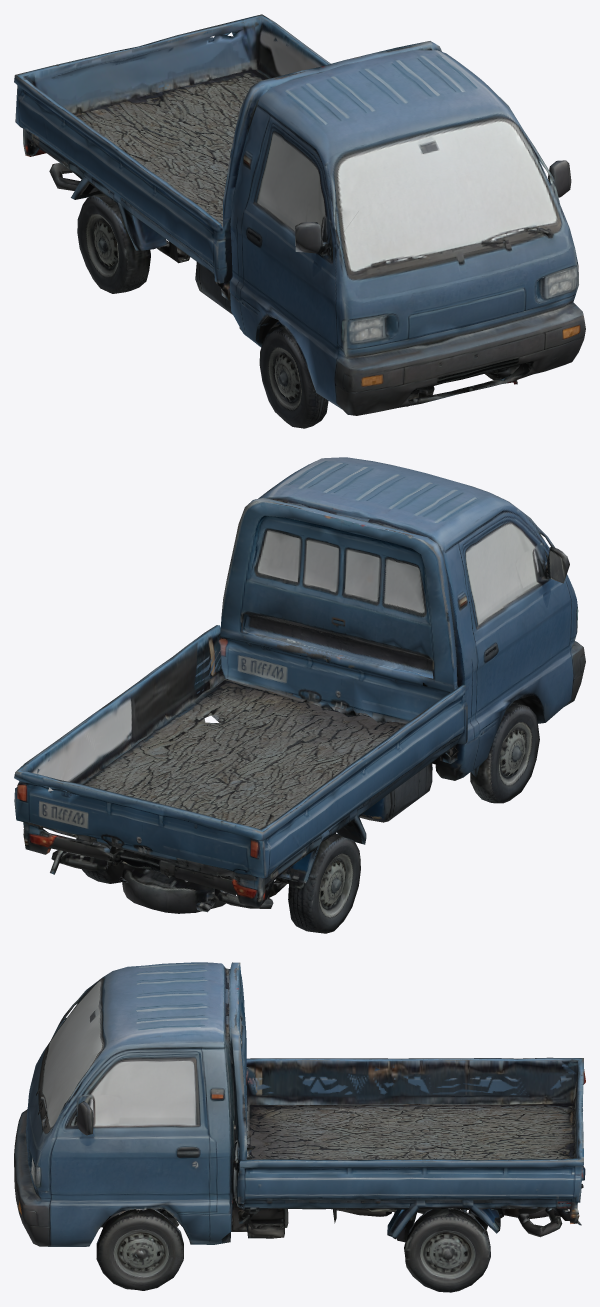
Rendered from truck_1t.glb.
The picture shows the model from 3 angles, top to bottom: view 1: azimuth 30°, elevation 25°; view 2: azimuth 150°, elevation 25°; view 3: azimuth 270°, elevation 25°; orthographic projection. The views are drawn at different scales.
Parts seen in each view (by area): view 1: texture_mapping; view 2: texture_mapping; view 3: texture_mapping.
Boxes of the visible parts, bbox=[...] form: texture_mapping: bbox=[14, 14, 585, 428]; texture_mapping: bbox=[14, 457, 585, 933]; texture_mapping: bbox=[14, 962, 585, 1292].
Size of the model in its own units: 0.4741 by 0.4916 by 1.
Materials: 1 (1 with a texture image).
